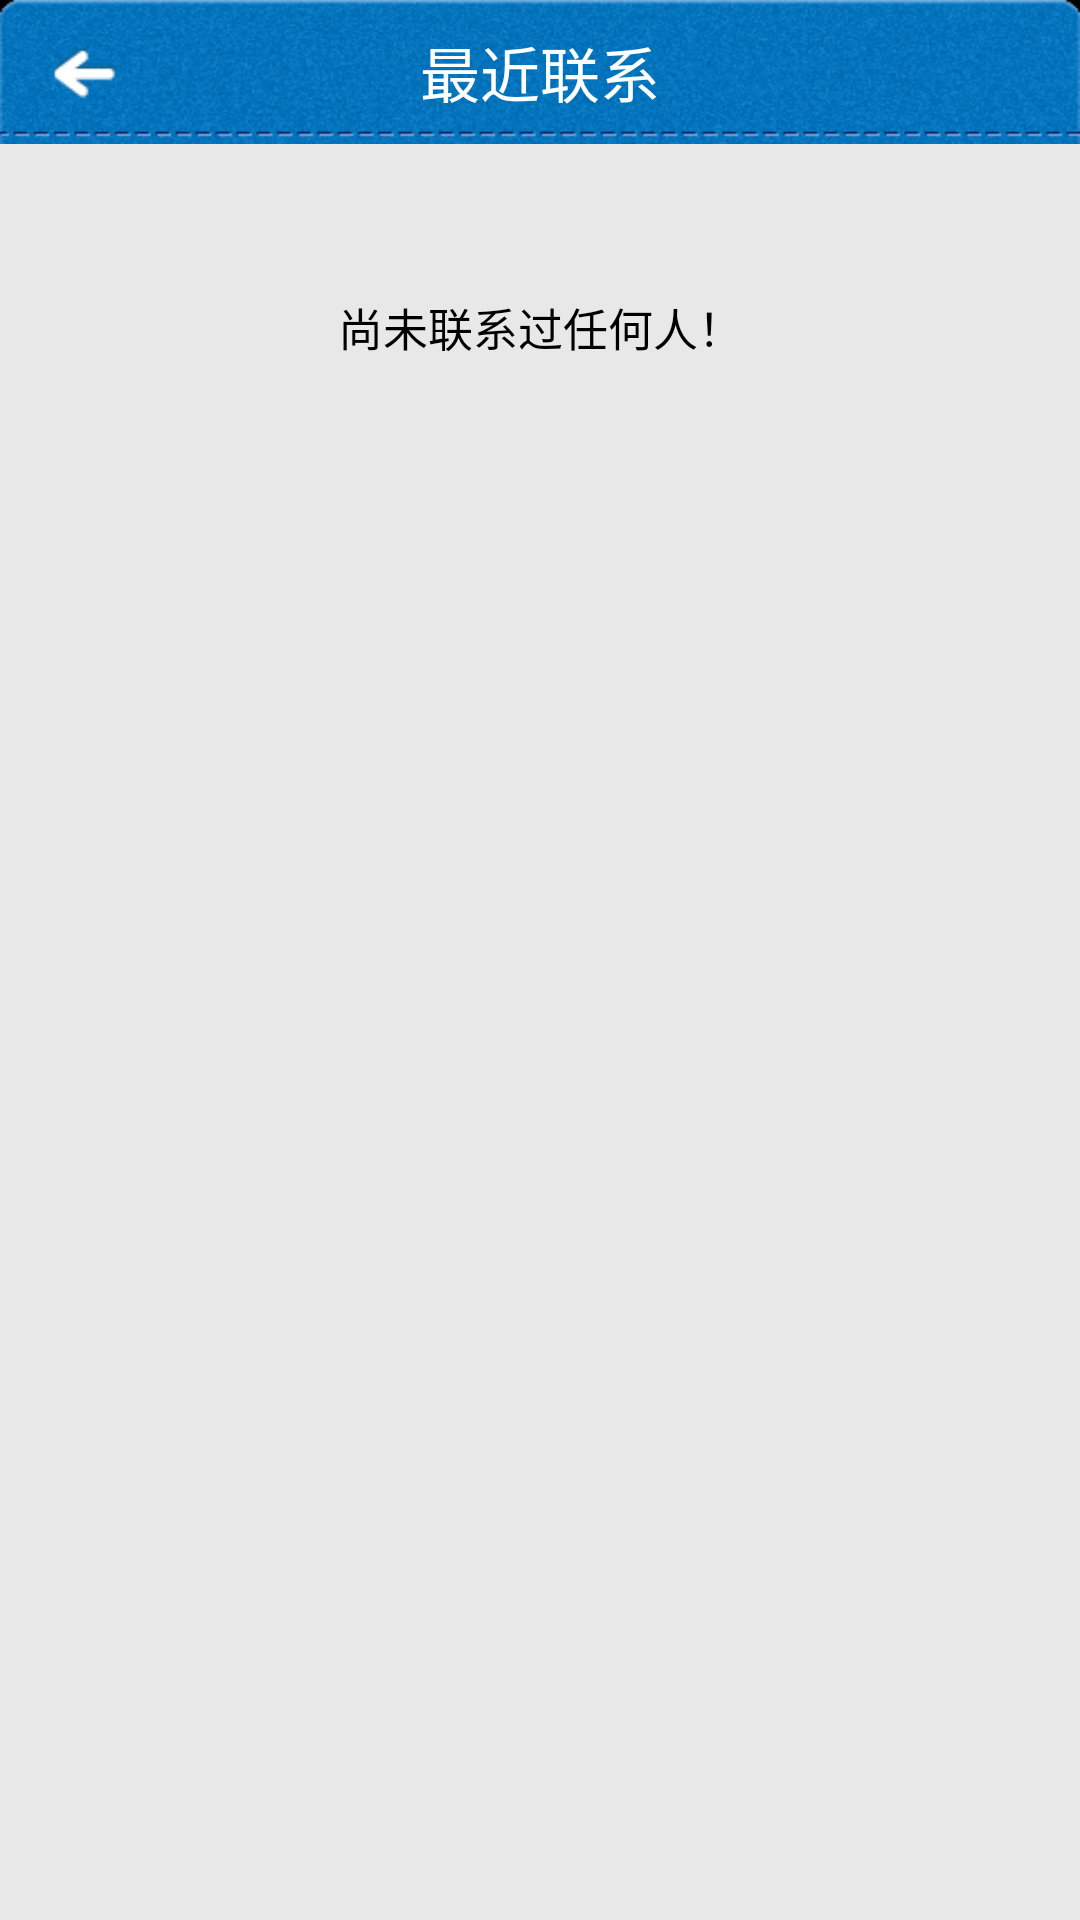

Icon bounding boxes for this 1080px×1920px phone screenshot, format (x1, y1, x2, y2):
title back: (15, 48, 150, 137)
